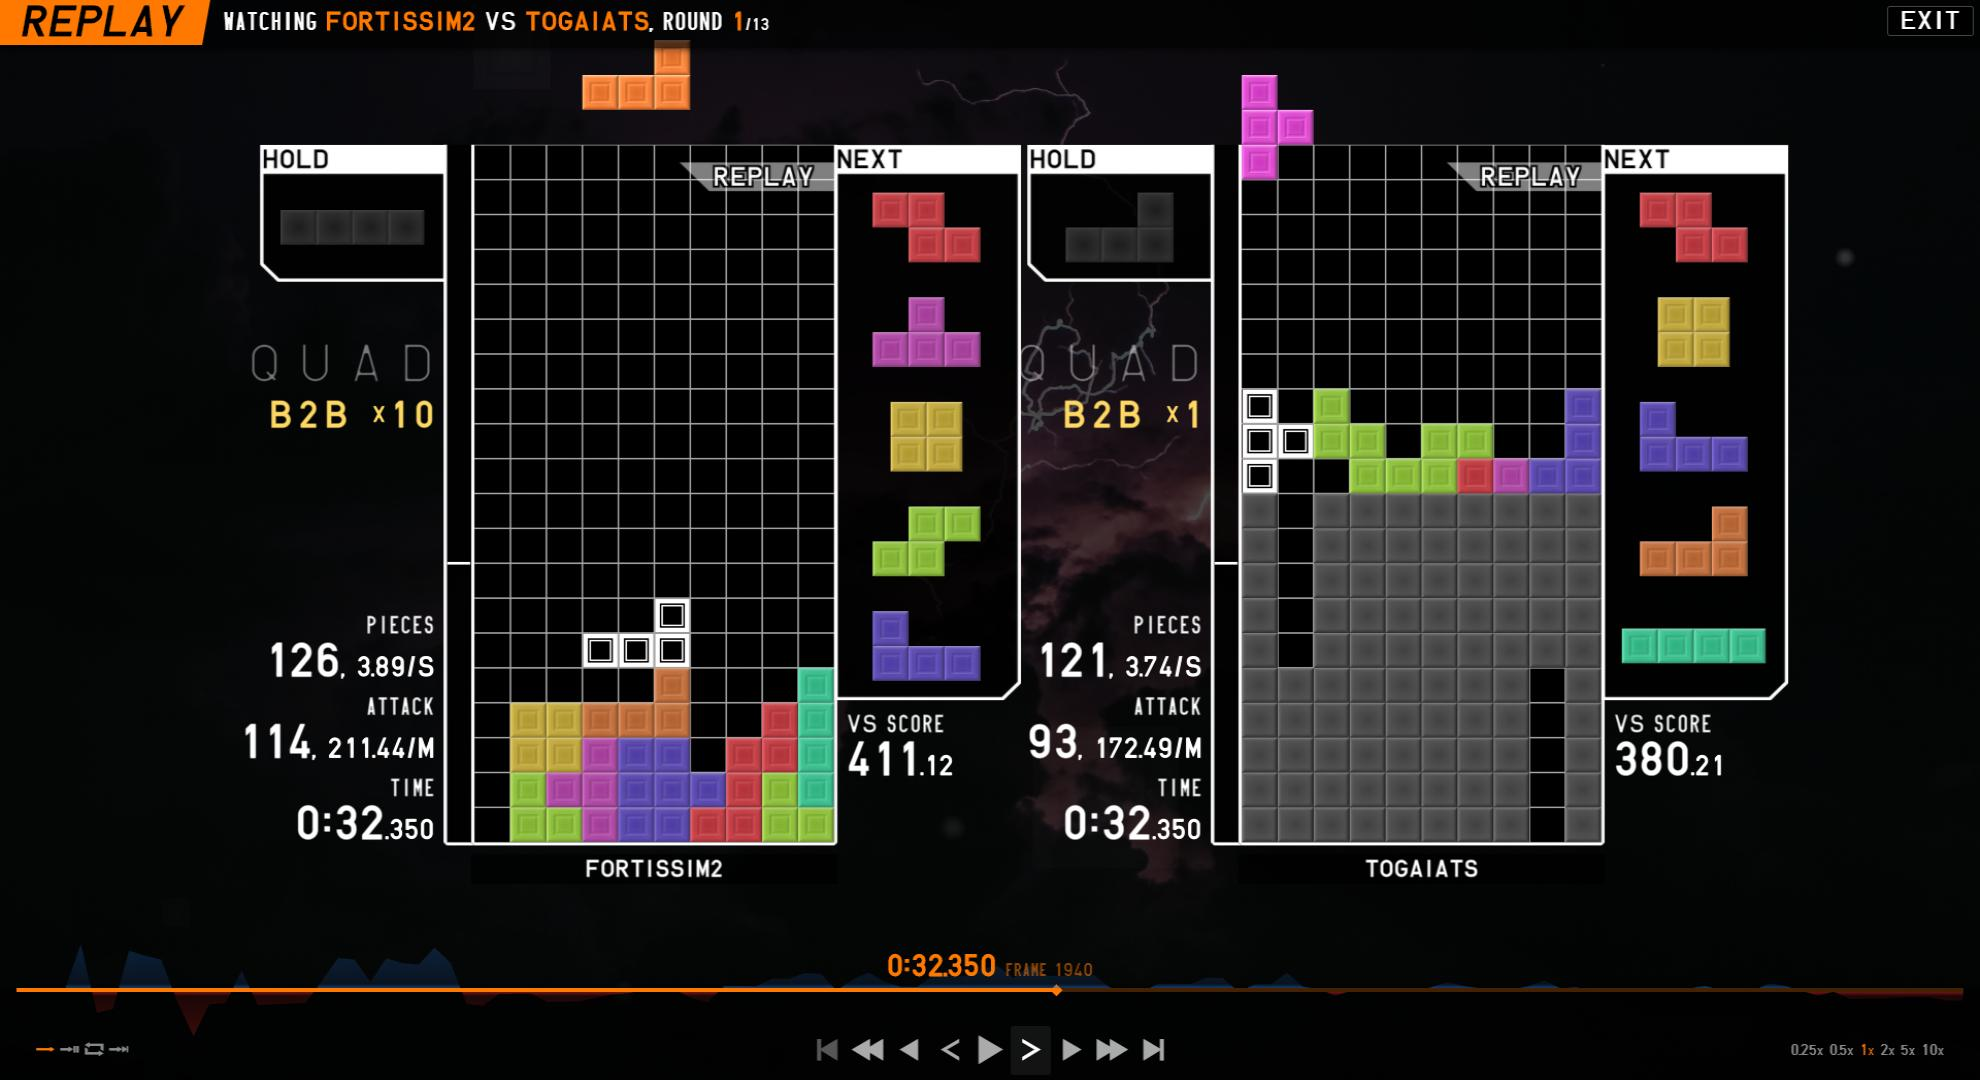tspin: (1235, 422, 1358, 528)
